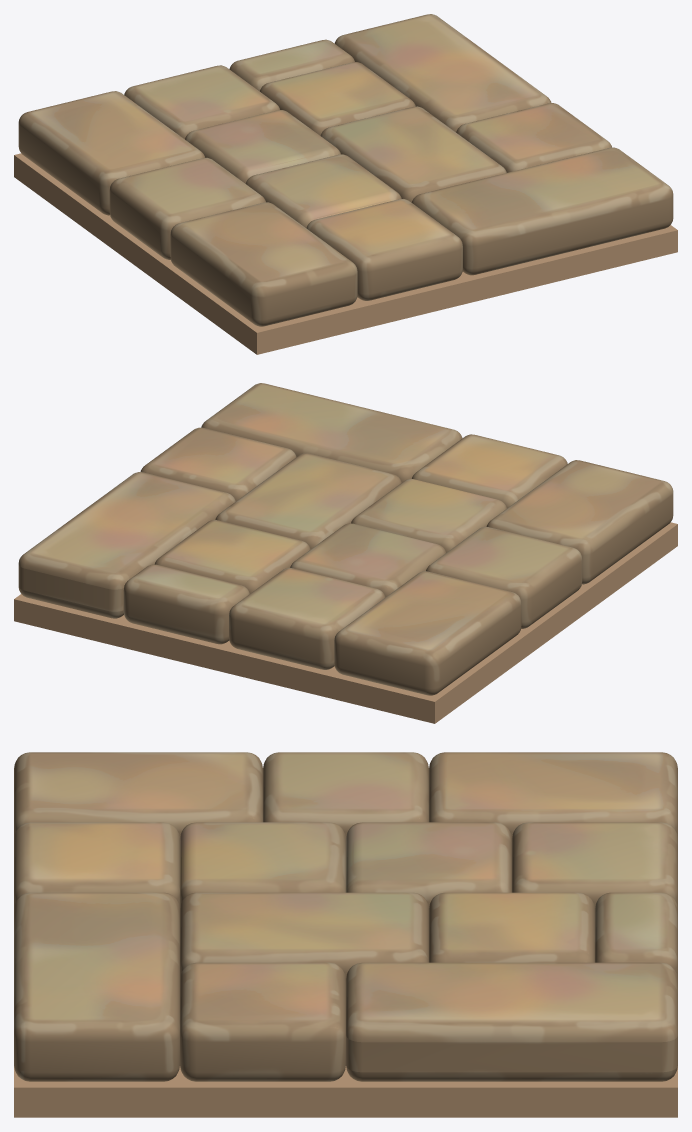
Rendered from floor.glb.
3 renders of one model, top to bottom at view 1: azimuth 30°, elevation 25°; view 2: azimuth 150°, elevation 25°; view 3: azimuth 270°, elevation 25°, orthographic. The views are drawn at different scales.
Parts seen in each view (by area): view 1: tile, tile back; view 2: tile, tile back; view 3: tile, tile back.
Boxes of the visible parts, box(x1,y1,x2,y2) form: tile: box(18, 14, 673, 326); tile back: box(14, 153, 677, 354); tile: box(18, 383, 673, 695); tile back: box(14, 522, 677, 723); tile: box(14, 752, 677, 1081); tile back: box(14, 1066, 677, 1117).
Bounding box in the file's own units: 2 × 0.301 × 2.
Materials: 2 (1 with a texture image).
